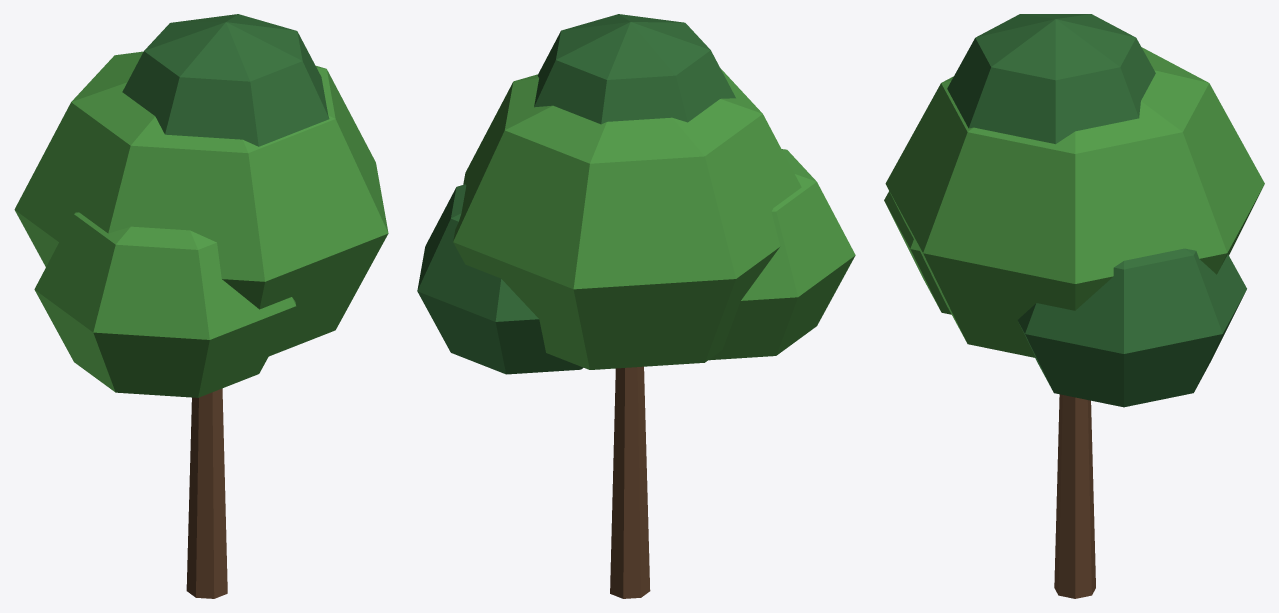
Rendered from tree_a.glb.
3 renders of one model, left to right at view 1: azimuth 30°, elevation 25°; view 2: azimuth 150°, elevation 25°; view 3: azimuth 270°, elevation 25°, orthographic. The views are drawn at different scales.
Visible parts, largest first — view 1: tree_a_Body; view 2: tree_a_Body; view 3: tree_a_Body.
Part boxes in pixels (left/top/right/bottom): tree_a_Body: left=14, top=14, right=388, bottom=598; tree_a_Body: left=417, top=14, right=855, bottom=598; tree_a_Body: left=884, top=14, right=1264, bottom=598.
Bounding box in the file's own units: 4.26 × 6.52 × 3.91.
